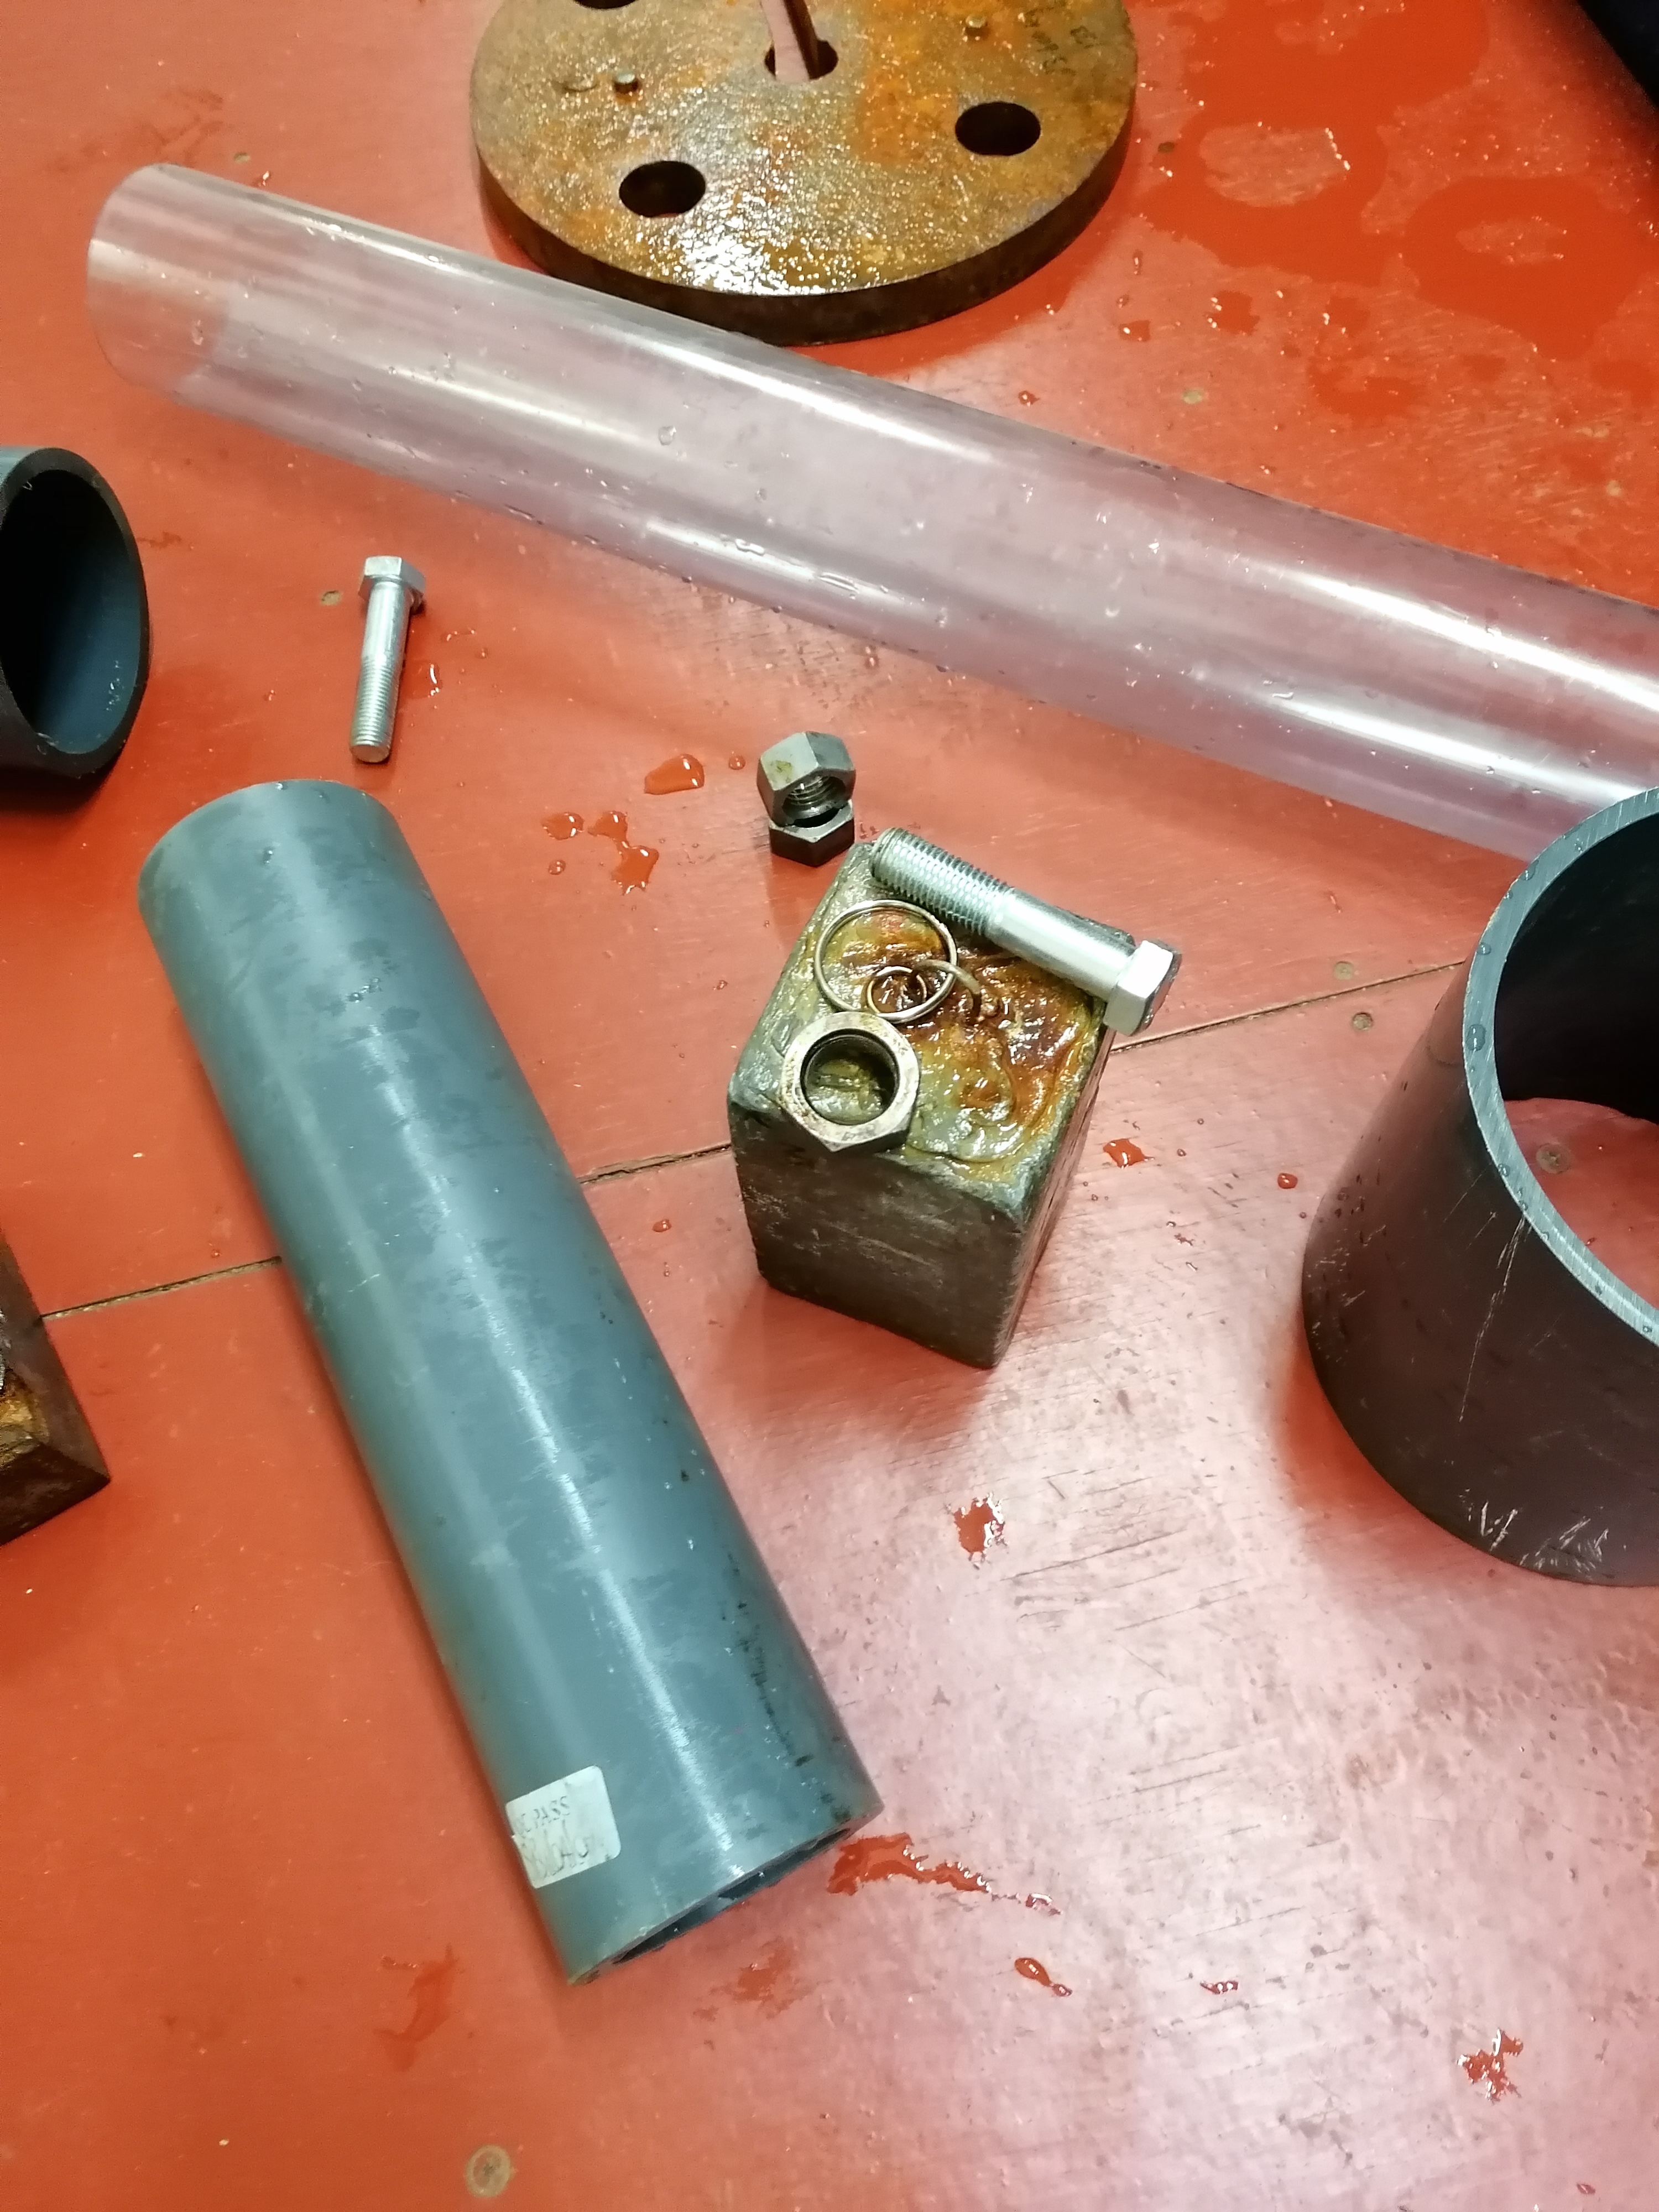bolt: (870, 826, 1187, 1038), (349, 556, 427, 765)
flange: (467, 0, 1136, 343)
led_block: (0, 1219, 112, 1547)
nut: (775, 1008, 922, 1160), (756, 730, 857, 827), (770, 798, 854, 867)
pipe: (89, 160, 1659, 866), (136, 775, 897, 1989), (1300, 784, 1659, 1590), (0, 444, 152, 786)
